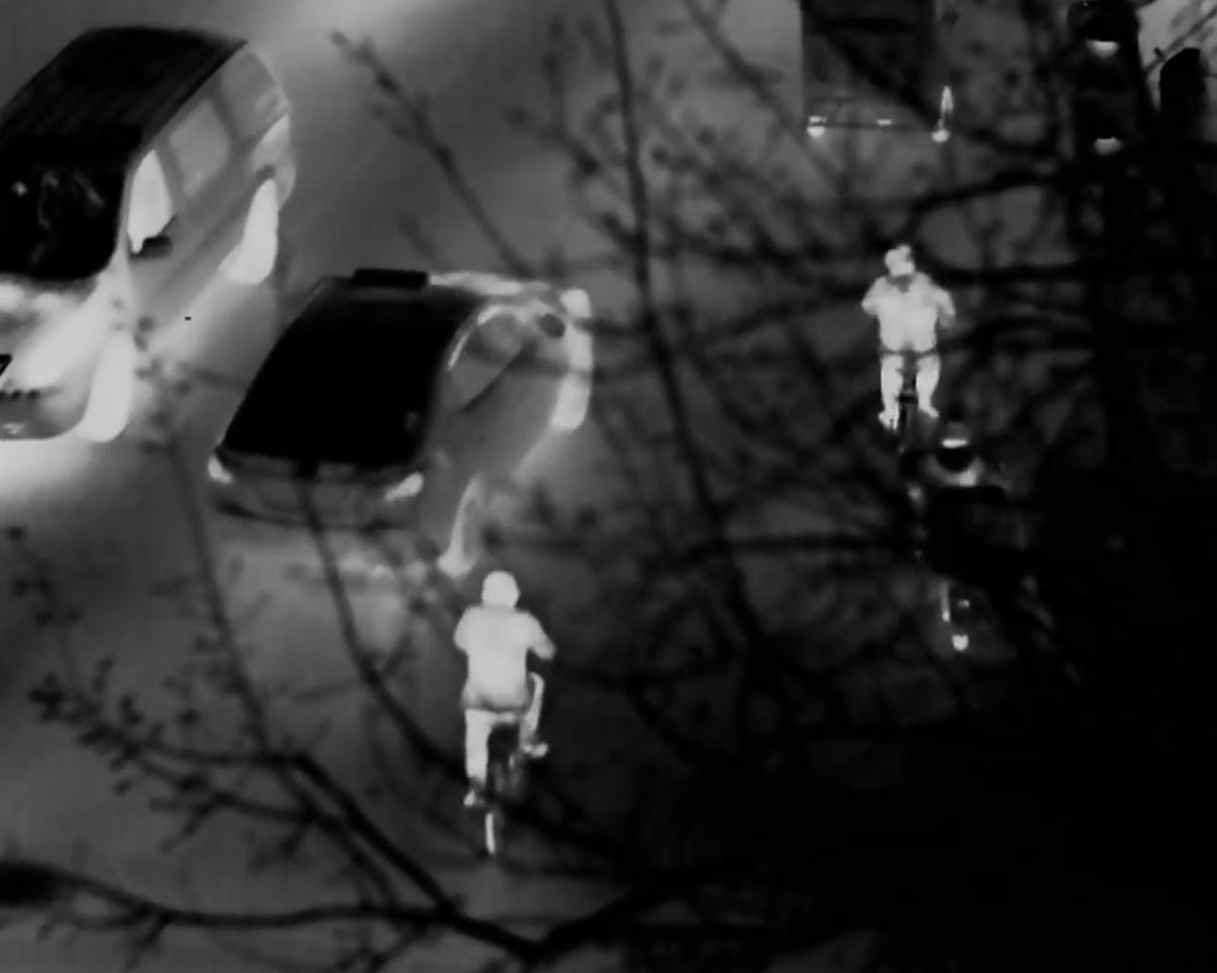person: (446, 573, 565, 788), (858, 238, 959, 450)
